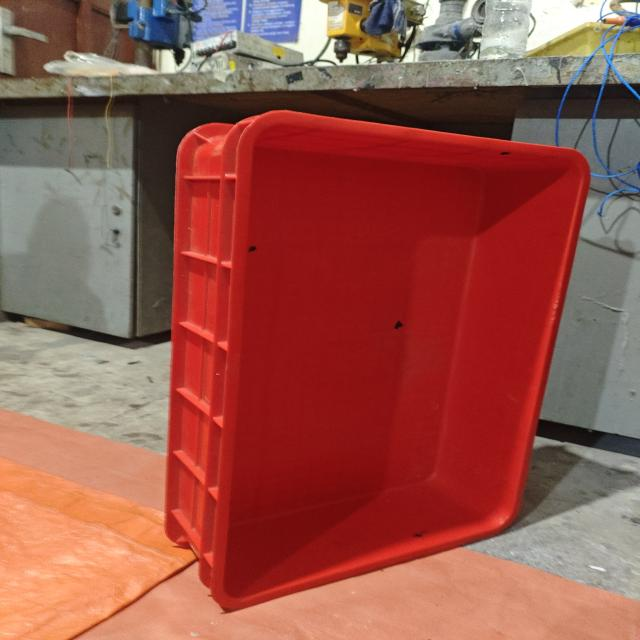red plastic box: (164, 110, 590, 612)
